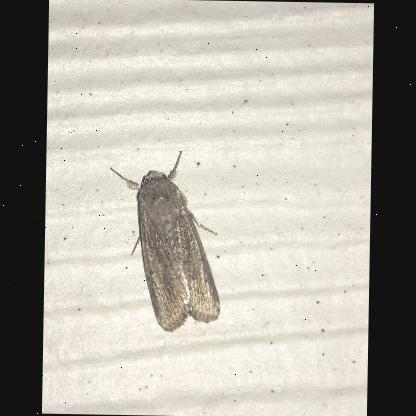Fall Armyworm Moth: (106, 148, 225, 334)
